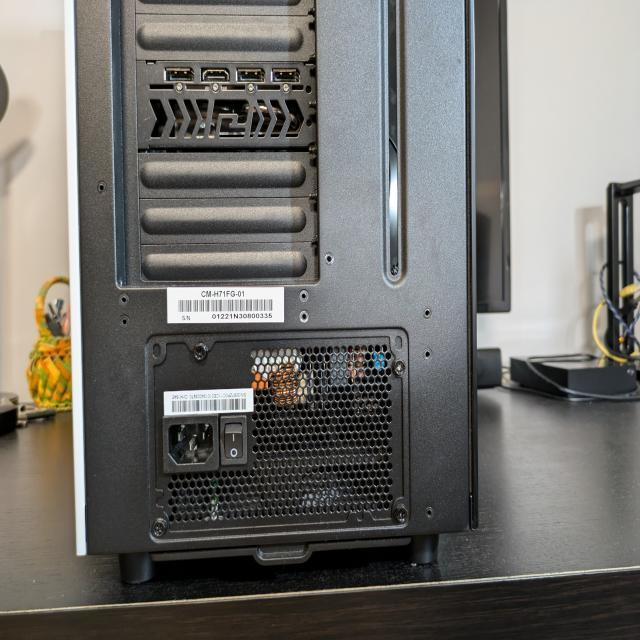PSU: (148, 332, 409, 536)
